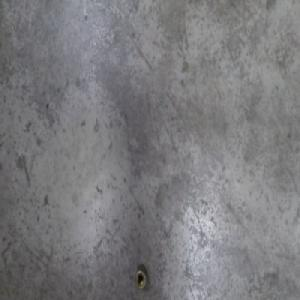Nut: (134, 268, 147, 291)
